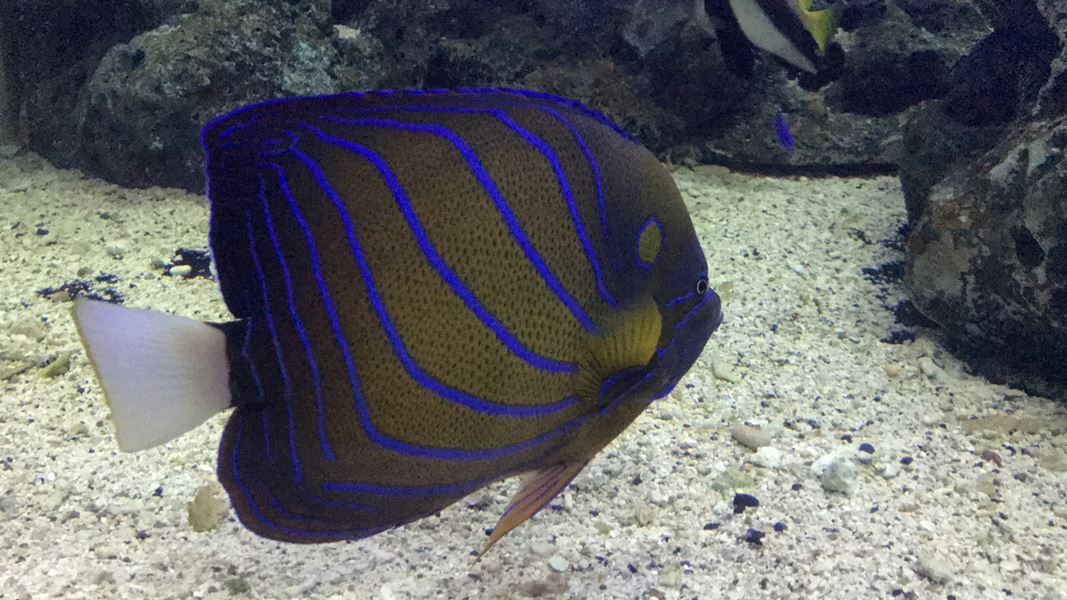Blue ring angelfish: (65, 73, 740, 588)
